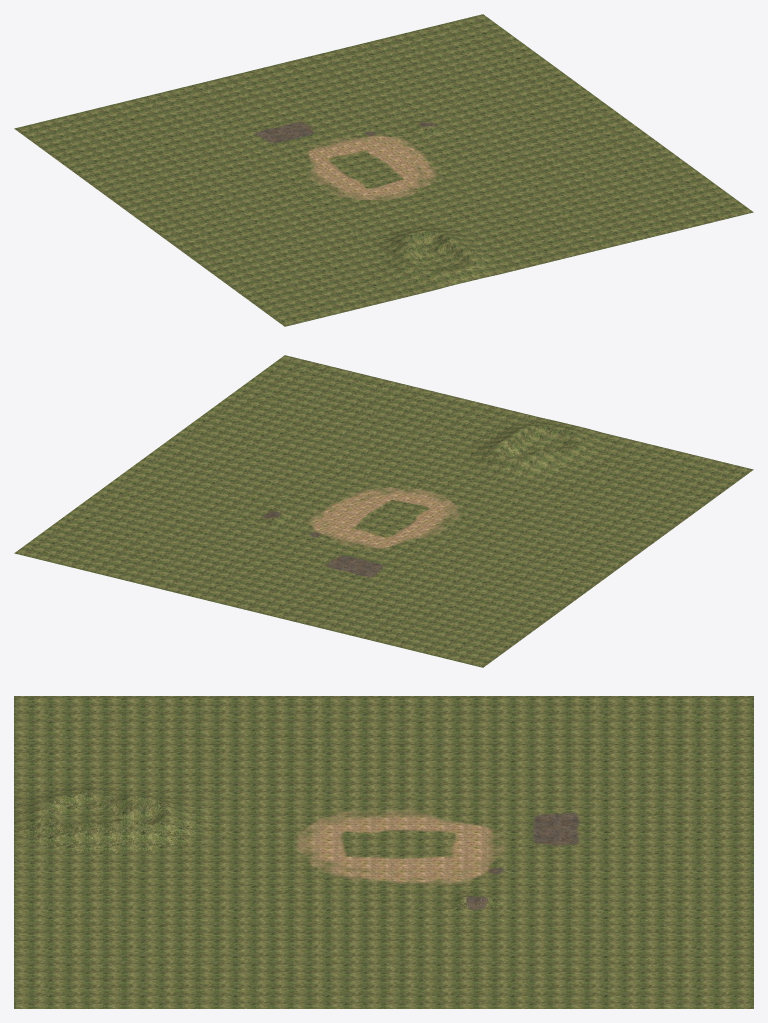
The picture shows the model from 3 angles, top to bottom: view 1: azimuth 30°, elevation 25°; view 2: azimuth 150°, elevation 25°; view 3: azimuth 270°, elevation 25°; orthographic projection. The views are drawn at different scales.
Visible parts, largest first — view 1: Mesh; view 2: Mesh; view 3: Mesh.
Boxes of the visible parts, x1,y1,x2,y2 form: Mesh: (14, 14, 753, 326); Mesh: (14, 355, 753, 667); Mesh: (14, 696, 753, 1008).
Size of the model in its own units: 250 by 5.22 by 250.
Materials: 1 (1 with a texture image).
